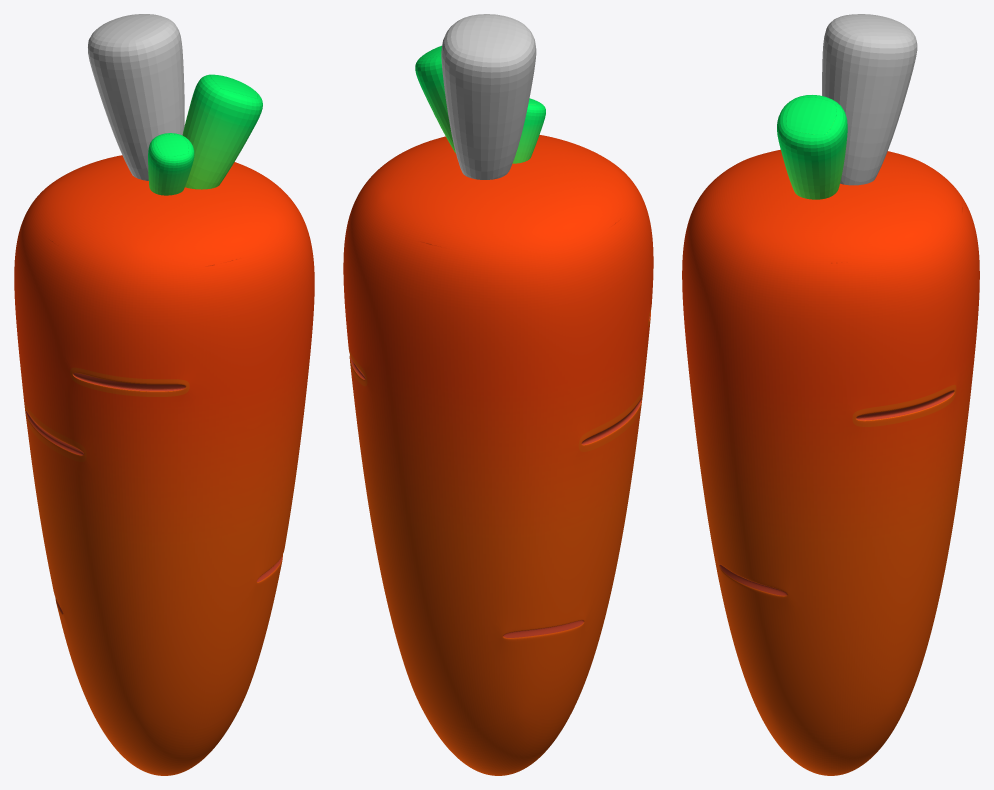
The model's file is carrot.fbx.
3 views of the same model, side by side, from view 1: azimuth 30°, elevation 25°; view 2: azimuth 150°, elevation 25°; view 3: azimuth 270°, elevation 25° (orthographic). The views are drawn at different scales.
Visible parts, largest first — view 1: Cube, Cube.002, Cube.003, Cube.001; view 2: Cube, Cube.002, Cube.003, Cube.001; view 3: Cube, Cube.002, Cube.003.
Boxes of the visible parts, x1,y1,x2,y2 form: Cube: (14,155,314,775); Cube.002: (88,14,184,180); Cube.003: (182,74,262,189); Cube.001: (148,133,194,195); Cube: (343,135,653,775); Cube.002: (441,14,536,179); Cube.003: (415,45,455,153); Cube.001: (512,98,545,163); Cube: (682,149,979,775); Cube.002: (822,14,917,185); Cube.003: (777,95,847,199).
Bounding box in the file's own units: 176 × 486 × 176.
